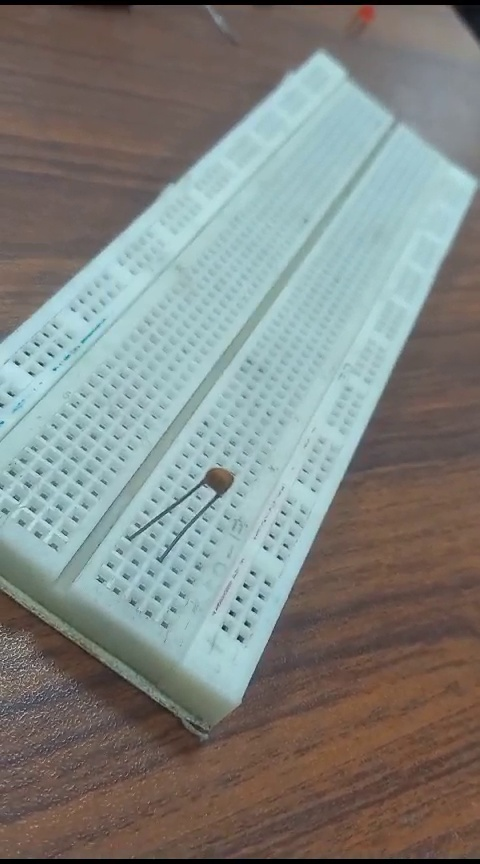ceramic capacitor: (122, 448, 244, 557)
